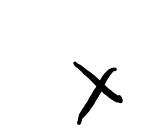mult: (73, 61, 123, 125)
